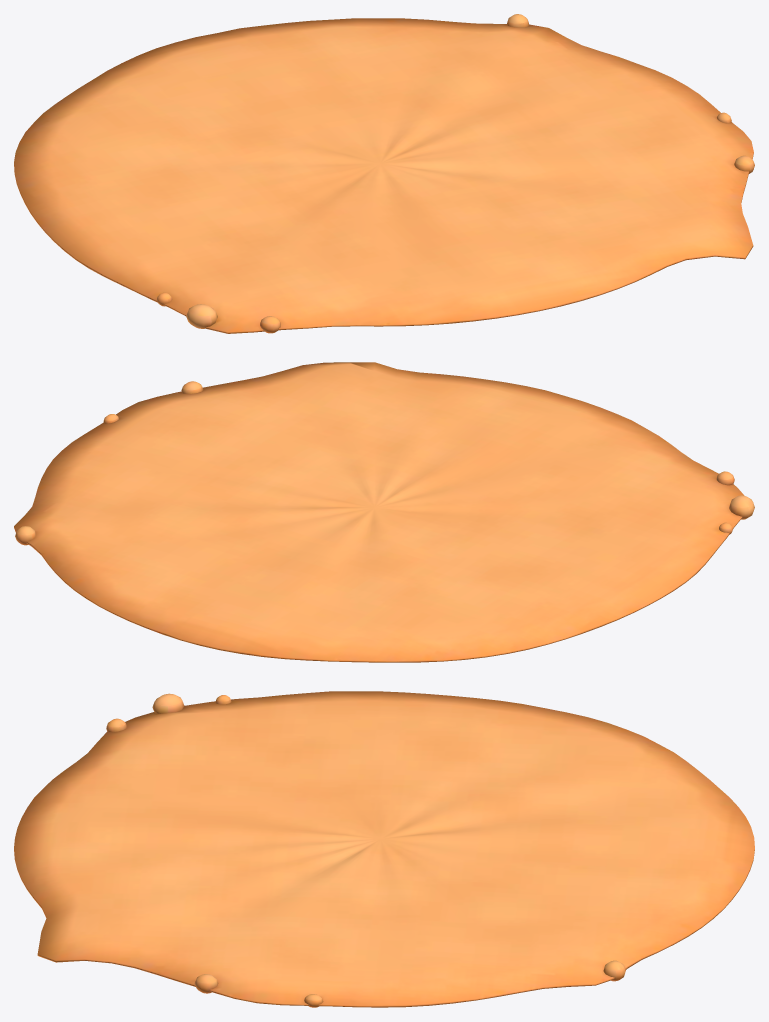
The model's file is salsa-original-base.glb.
3 views of the same model, one above another, from view 1: azimuth 30°, elevation 25°; view 2: azimuth 150°, elevation 25°; view 3: azimuth 270°, elevation 25° (orthographic). The views are drawn at different scales.
Visible parts, largest first — view 1: salsa-original-base; view 2: salsa-original-base; view 3: salsa-original-base.
Boxes of the visible parts, x1,y1,x2,y2 form: salsa-original-base: (14, 14, 754, 333); salsa-original-base: (14, 362, 754, 662); salsa-original-base: (14, 691, 754, 1007).
Bounding box in the file's own units: 1.87 × 0.0654 × 1.87.
Materials: 1 (1 with a texture image).
